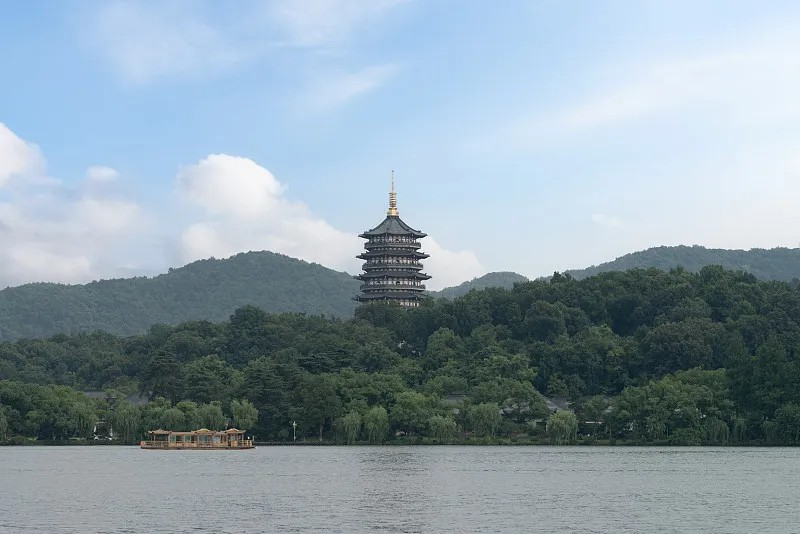Leifeng: (351, 169, 430, 316)
